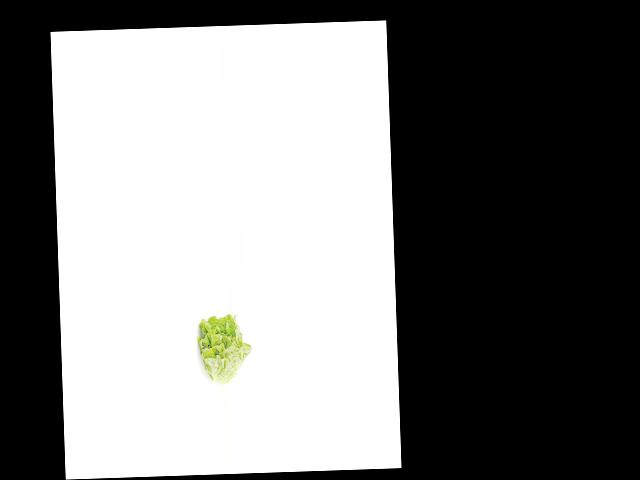lettuce: (192, 313, 251, 385)
